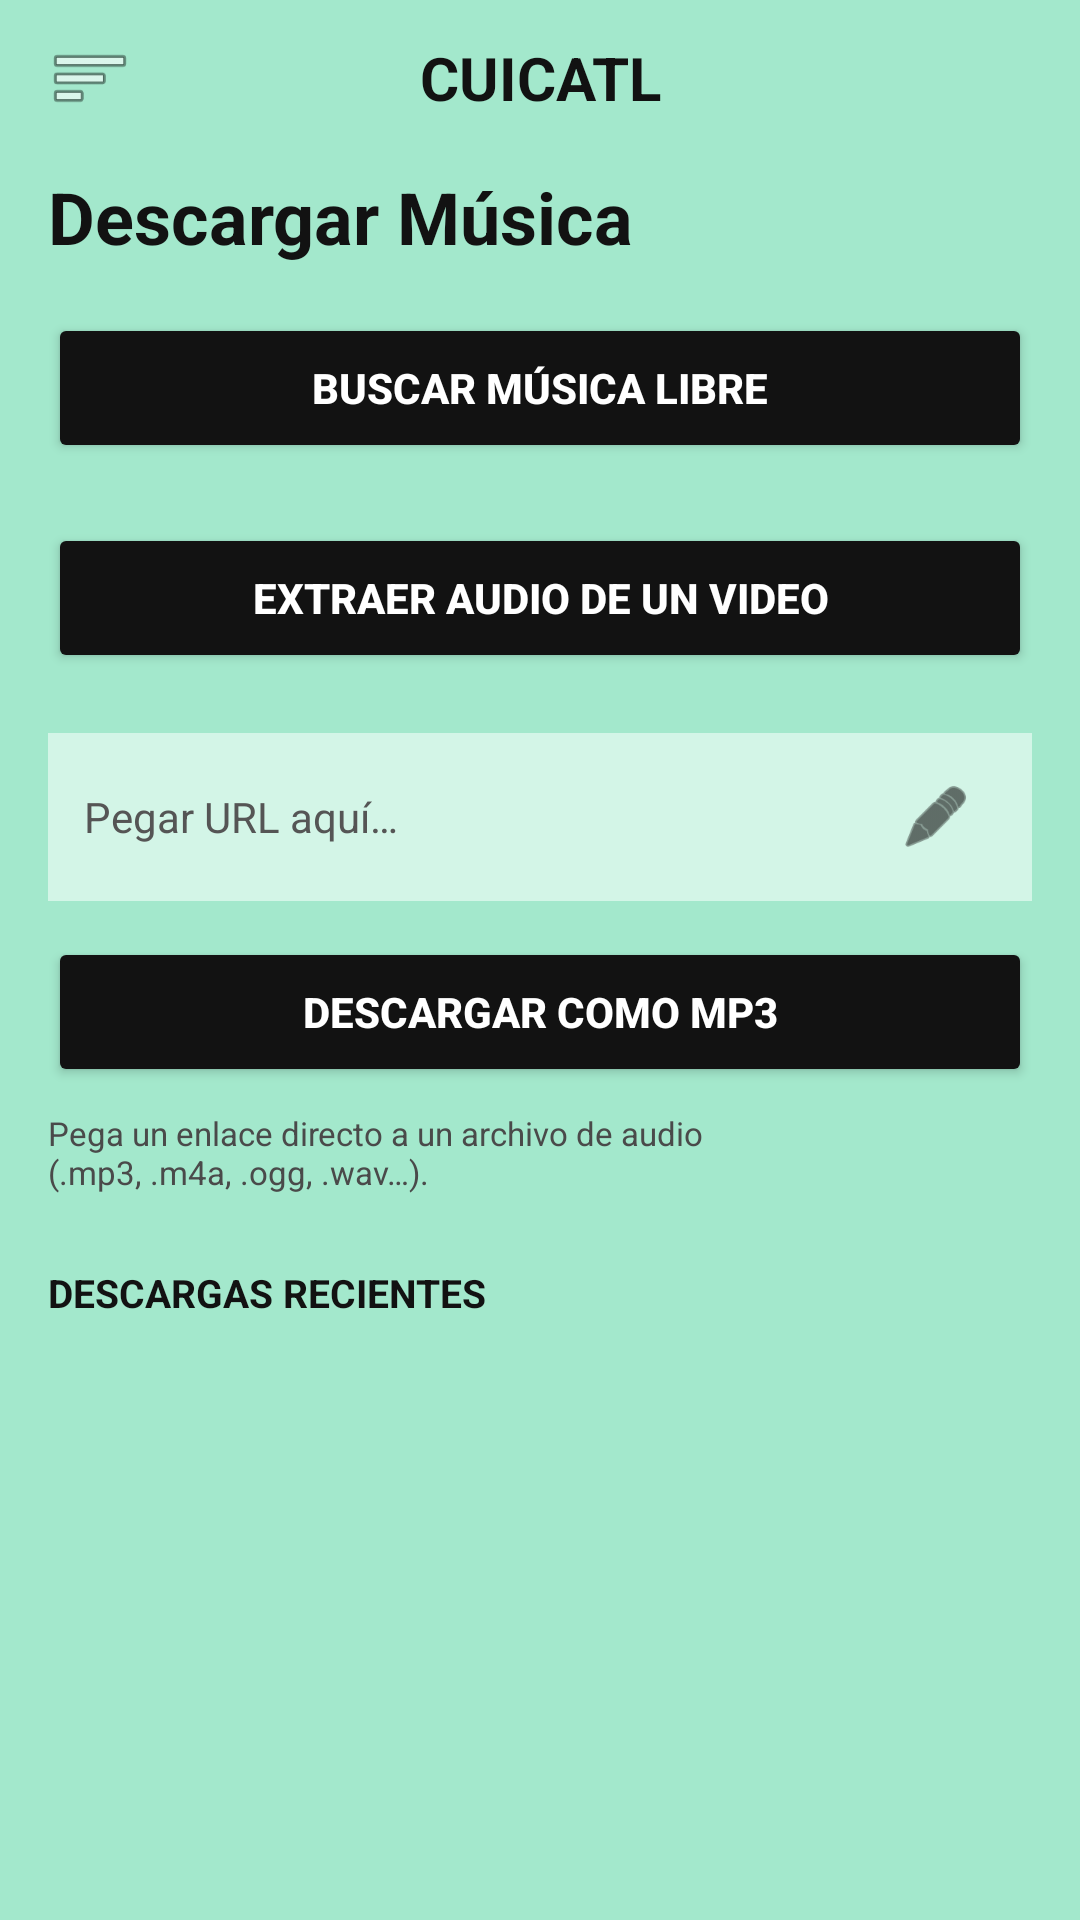

Where to tap for icons on this 1080*1920 app screen, as point (x, y):
Menú principal: point (90, 78)
